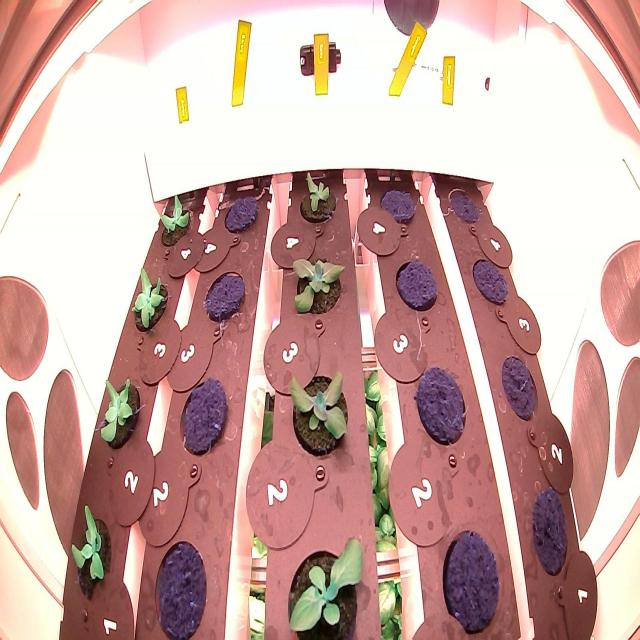pod: (438, 517, 504, 636), (152, 534, 211, 640), (176, 368, 229, 461), (414, 362, 467, 450), (528, 479, 571, 582), (391, 248, 443, 319), (498, 344, 539, 427), (202, 259, 251, 328), (471, 243, 512, 313), (378, 174, 422, 230), (446, 174, 482, 234), (222, 186, 261, 240)
young: (284, 523, 370, 639), (280, 357, 356, 469), (282, 238, 349, 327), (66, 499, 118, 602), (124, 258, 176, 343), (93, 371, 145, 456), (291, 165, 343, 230), (154, 183, 196, 255)
